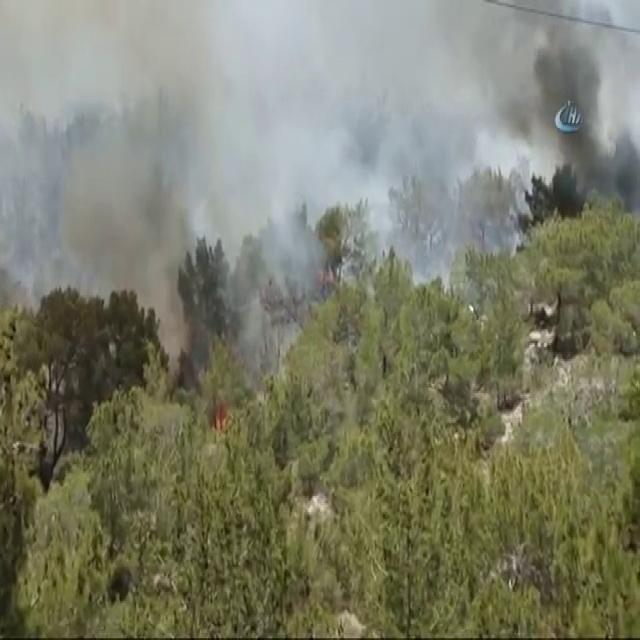Fire: (212, 401, 232, 431)
Smoke: (0, 0, 495, 307)
